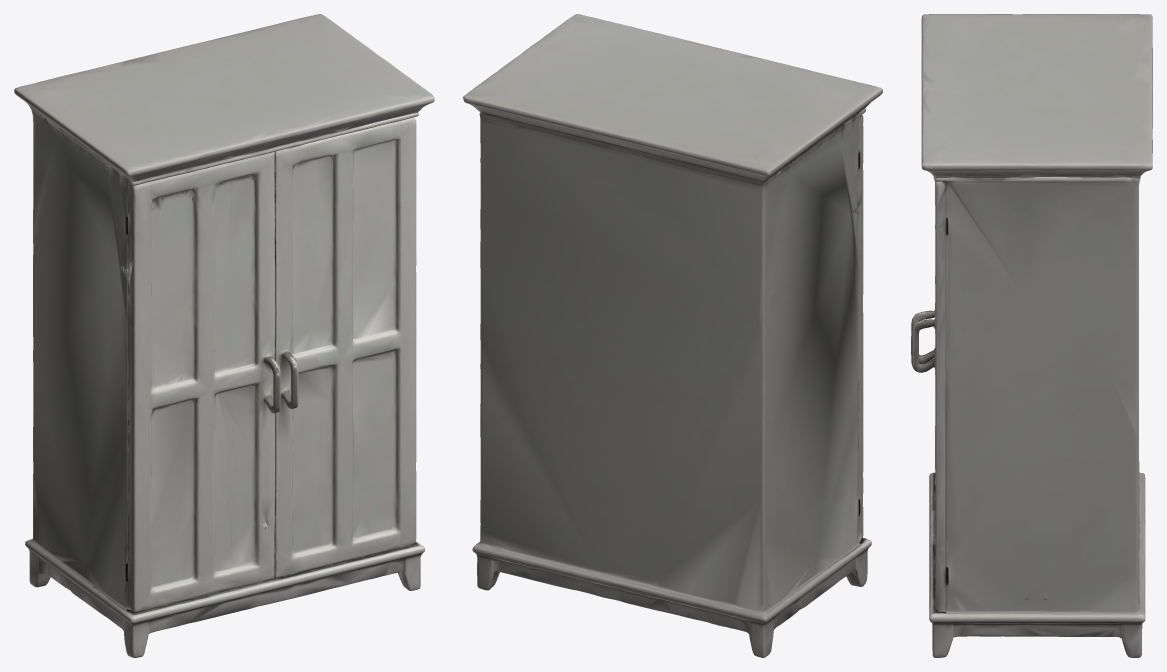
The model's file is wardrobe.glb.
The picture shows the model from 3 angles, left to right: view 1: azimuth 30°, elevation 25°; view 2: azimuth 150°, elevation 25°; view 3: azimuth 270°, elevation 25°; orthographic projection.
Parts seen in each view (by area): view 1: tripo_node_3d892620; view 2: tripo_node_3d892620; view 3: tripo_node_3d892620.
Boxes of the visible parts, bbox=[...] form: tripo_node_3d892620: bbox=[14, 14, 434, 657]; tripo_node_3d892620: bbox=[463, 14, 882, 657]; tripo_node_3d892620: bbox=[911, 14, 1152, 657].
Size of the model in its own units: 63.77 by 98.11 by 43.
1 material, 1 textured.
